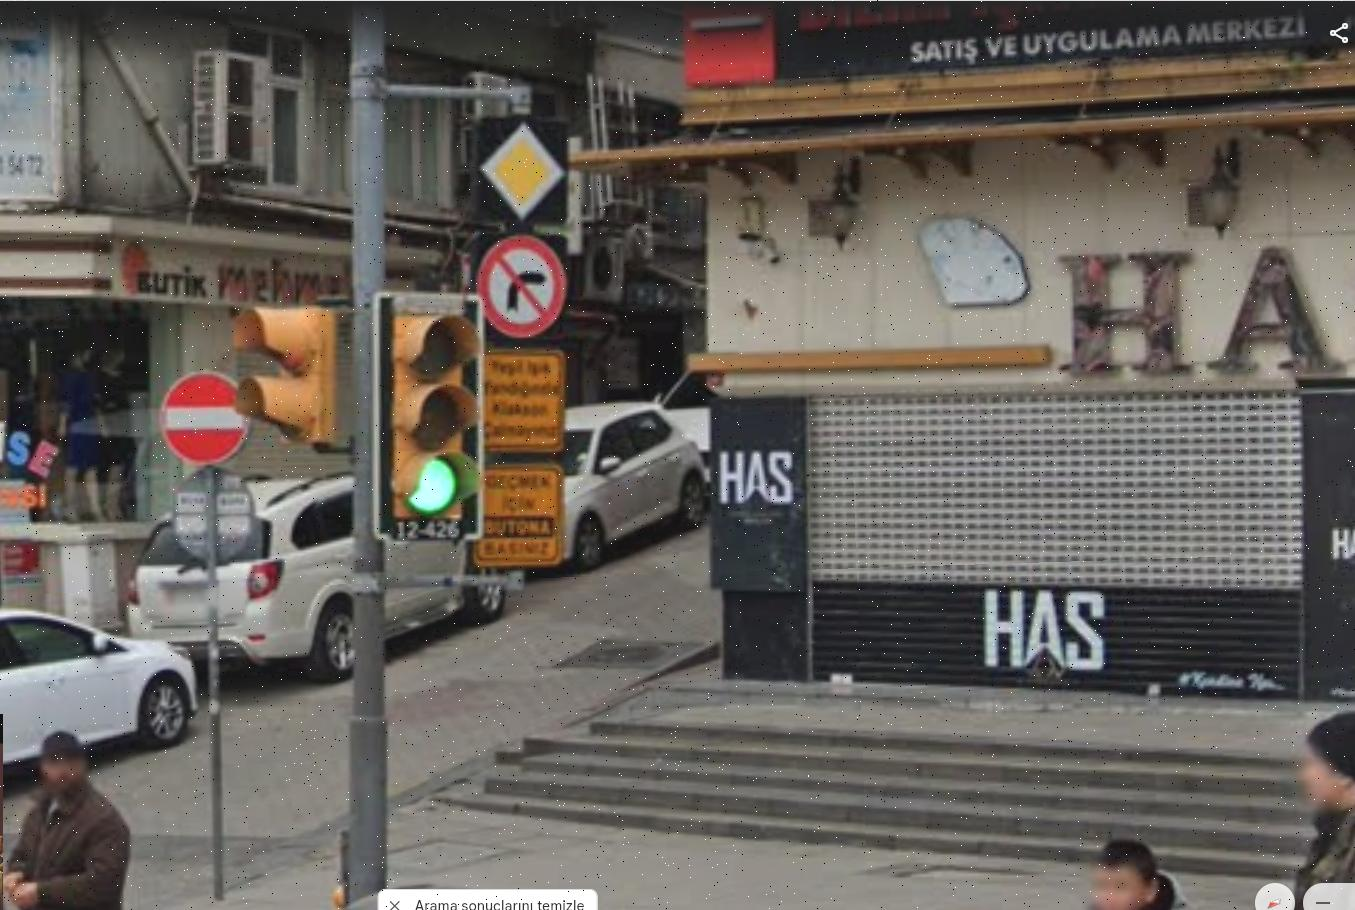greenlight: (371, 291, 483, 546)
rightturnsareforbidden: (477, 229, 575, 338)
